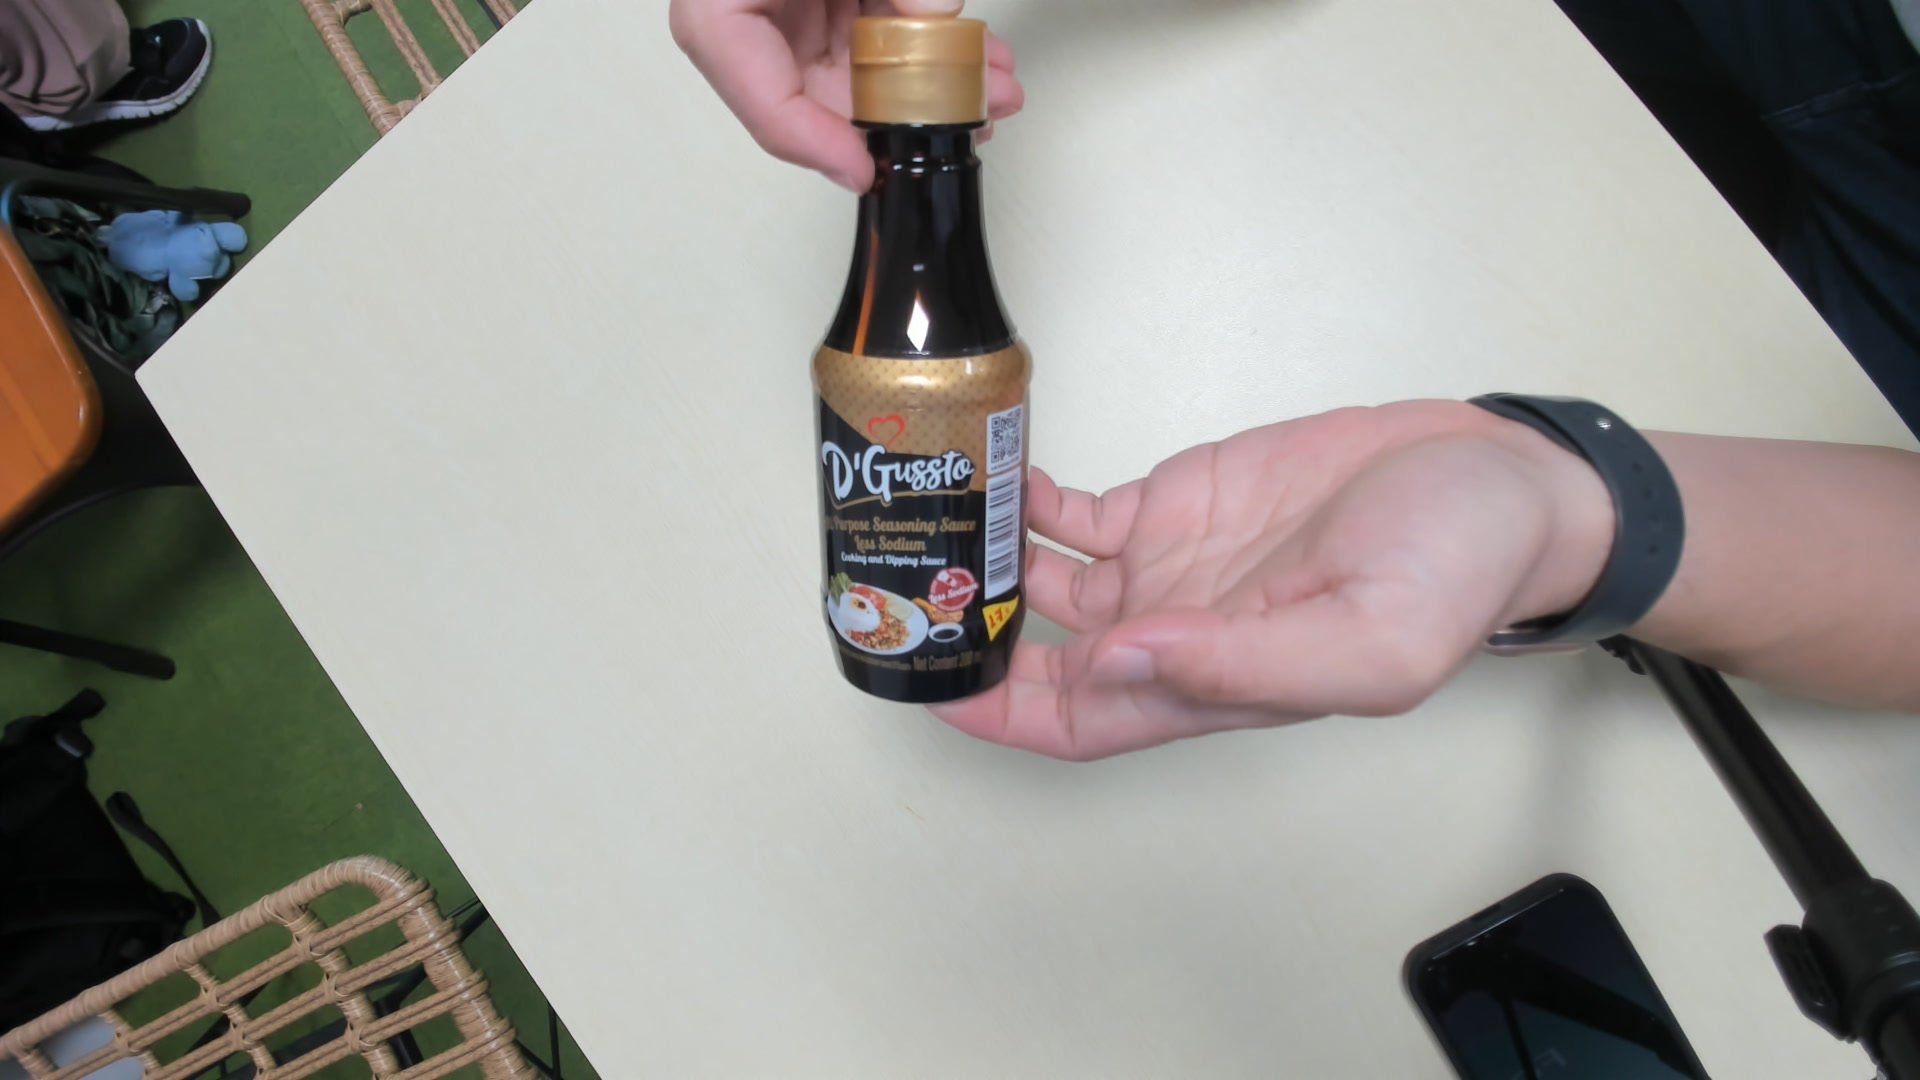OtherSauceDressing_200-299g_NonHalal_NonHealthy: (811, 13, 1029, 705)
